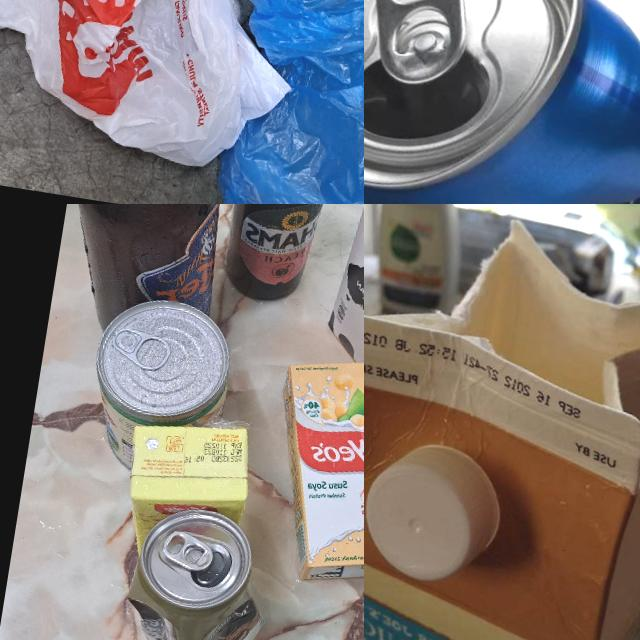aba de lata: (364, 0, 479, 92), (105, 321, 173, 377), (160, 526, 216, 572)
caixinha: (364, 204, 640, 640), (256, 352, 364, 595), (117, 408, 258, 572)
garrafa de vidro: (50, 204, 251, 346), (217, 204, 349, 309)
lata: (364, 0, 640, 204), (78, 289, 240, 483), (117, 500, 279, 640)
sacola plástica: (0, 0, 331, 172), (214, 0, 364, 204)
